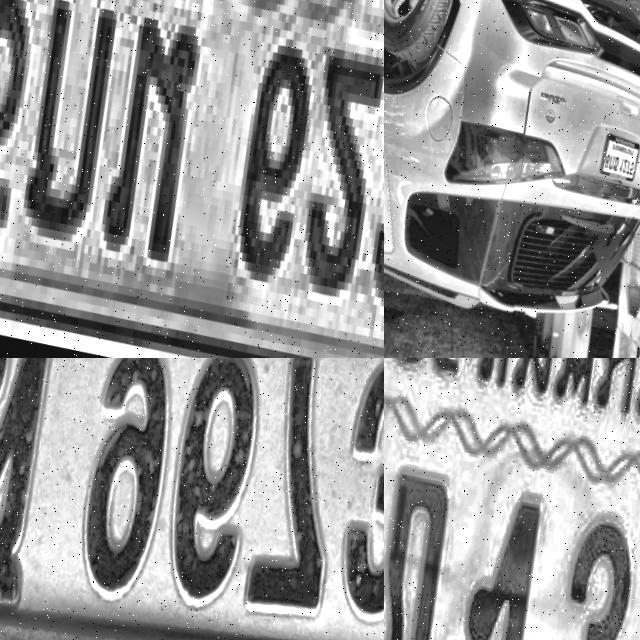license-plate: (0, 0, 384, 358), (0, 358, 384, 640), (384, 358, 640, 640), (578, 127, 640, 193)
